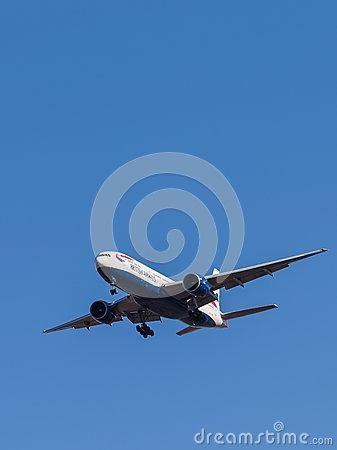airplane: (40, 246, 327, 337)
